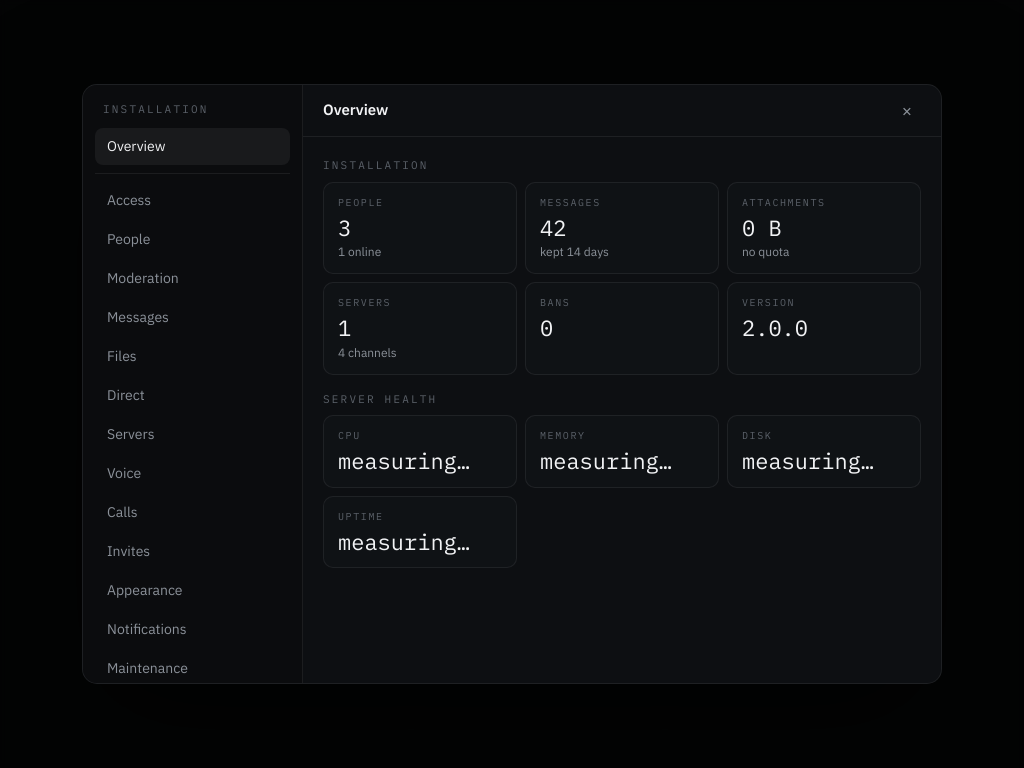
Test: панель инсталляции › размер показан человеку, а не числом байт
What coordinates should you click on to do the following:
click the button "Files"
I would click on:
 (192, 356)
Its box is x1=95 y1=338 x2=290 y2=374.
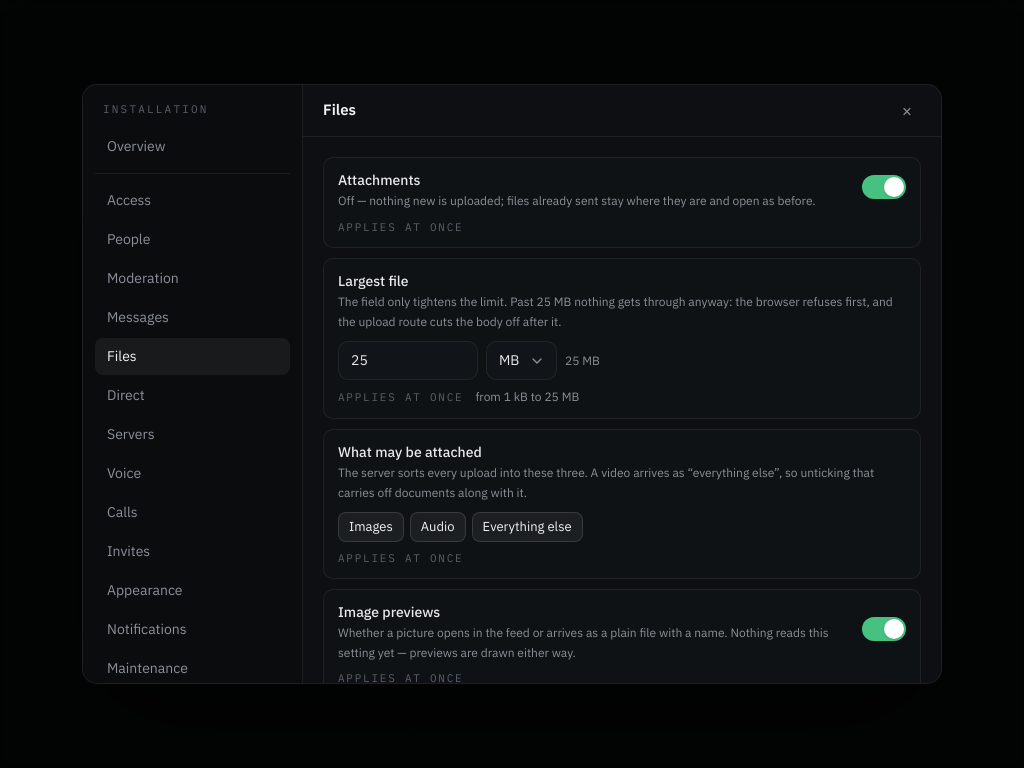
Result: the dropdown named "Unit" is shown at x1=486 y1=341 x2=557 y2=380
